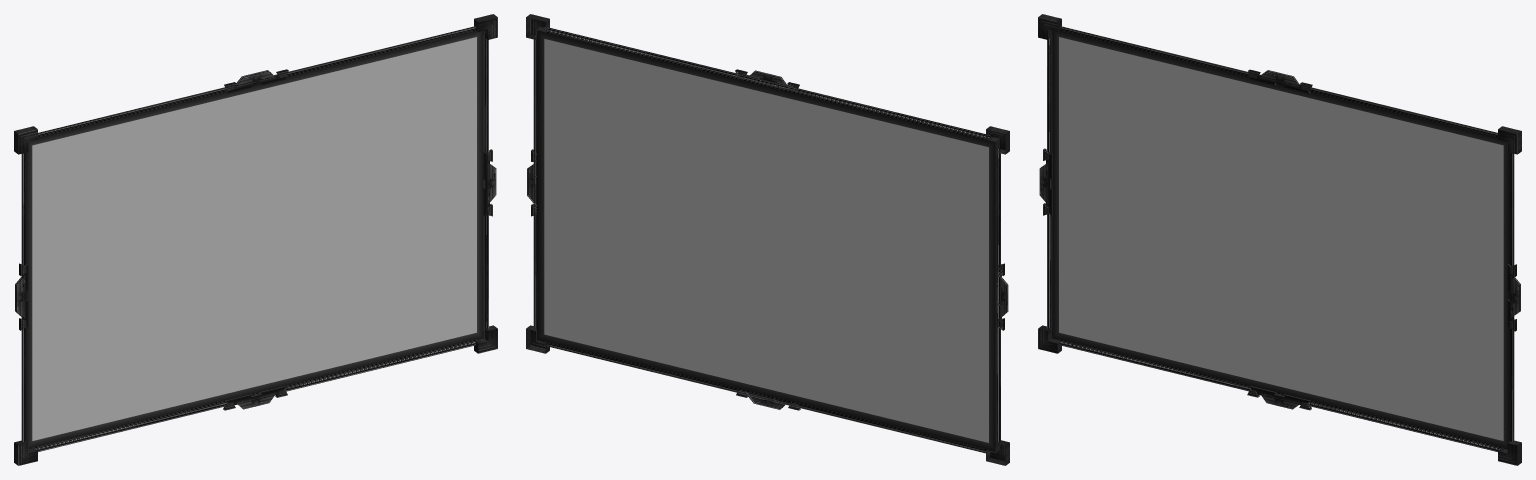
The model's file is Canvas_001.fbx.
3 renders of one model, left to right at view 1: azimuth 30°, elevation 25°; view 2: azimuth 150°, elevation 25°; view 3: azimuth 330°, elevation 25°, orthographic.
Parts seen in each view (by area): view 1: Canvas_001; view 2: Canvas_001; view 3: Canvas_001.
Part boxes in pixels (bbox=[...]): Canvas_001: bbox=[14, 14, 497, 465]; Canvas_001: bbox=[526, 14, 1009, 465]; Canvas_001: bbox=[1038, 14, 1521, 465].
Size of the model in its own units: 367 by 243 by 5.71.
